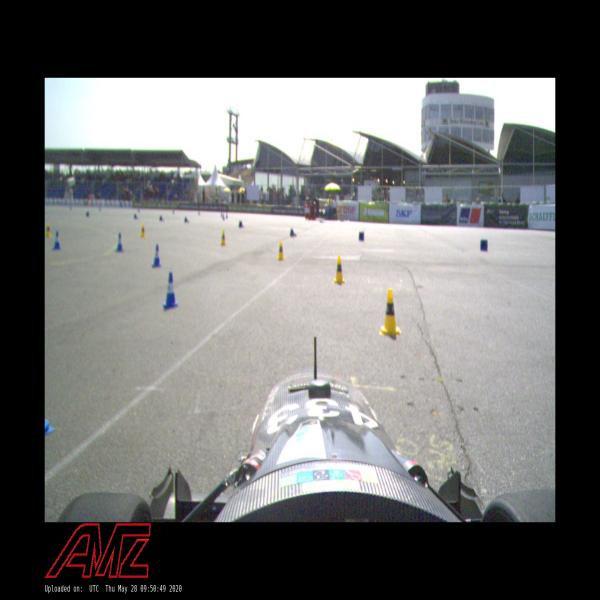blue_cone: (162, 270, 179, 310), (152, 244, 162, 268), (52, 229, 62, 250), (115, 231, 125, 252), (44, 221, 52, 238), (289, 228, 297, 238), (238, 220, 244, 228), (183, 217, 190, 223), (134, 213, 139, 220), (159, 215, 164, 221)
yellow_cone: (380, 288, 401, 336), (333, 256, 346, 284), (276, 240, 285, 261), (140, 222, 146, 238), (220, 230, 226, 246)
